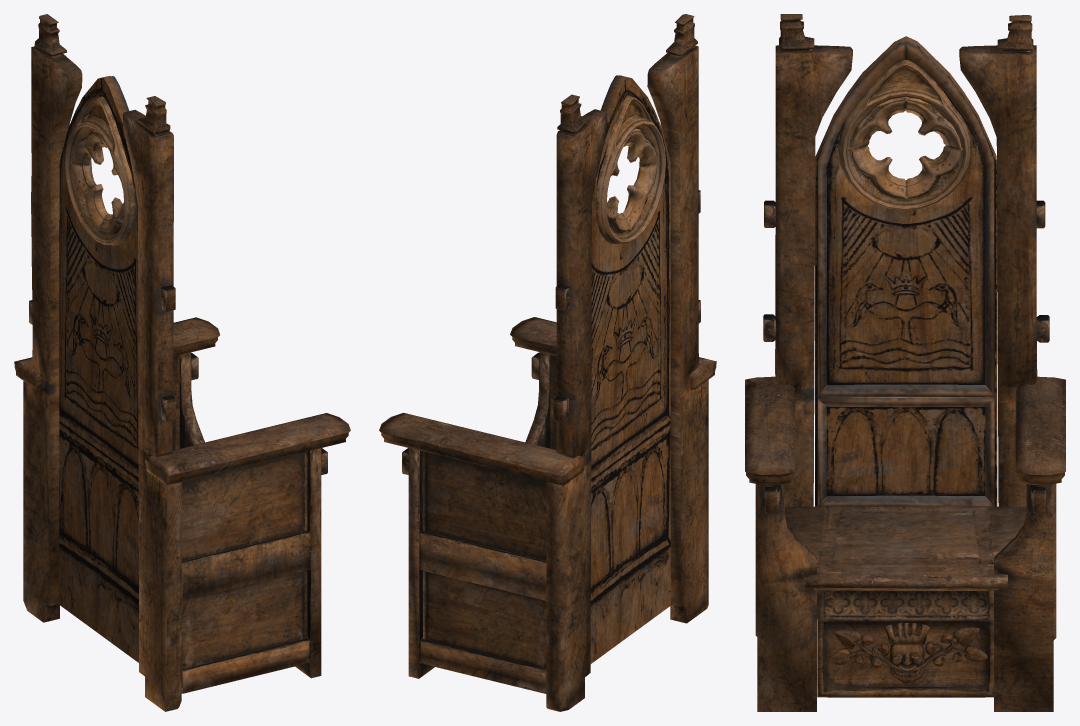
File: throne.glb
3 views of the same model, side by side, from view 1: azimuth 30°, elevation 25°; view 2: azimuth 150°, elevation 25°; view 3: azimuth 270°, elevation 25° (orthographic). The views are drawn at different scales.
Visible parts, largest first — view 1: Throne; view 2: Throne; view 3: Throne.
Part boxes in pixels (x1,y1,x2,y2): Throne: (14, 14, 350, 711); Throne: (379, 14, 716, 711); Throne: (745, 14, 1065, 711).
Size of the model in its own units: 0.8089 by 2.48 by 1.16.
Materials: 1 (1 with a texture image).
